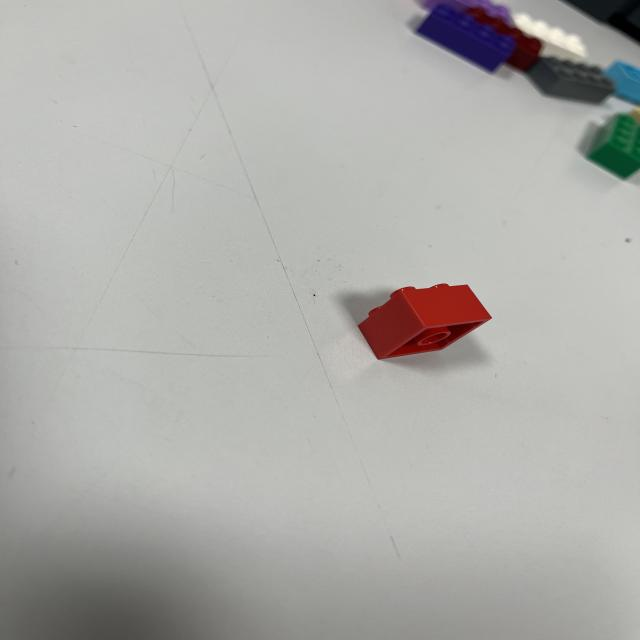C2x2x1: (359, 286, 494, 363)
